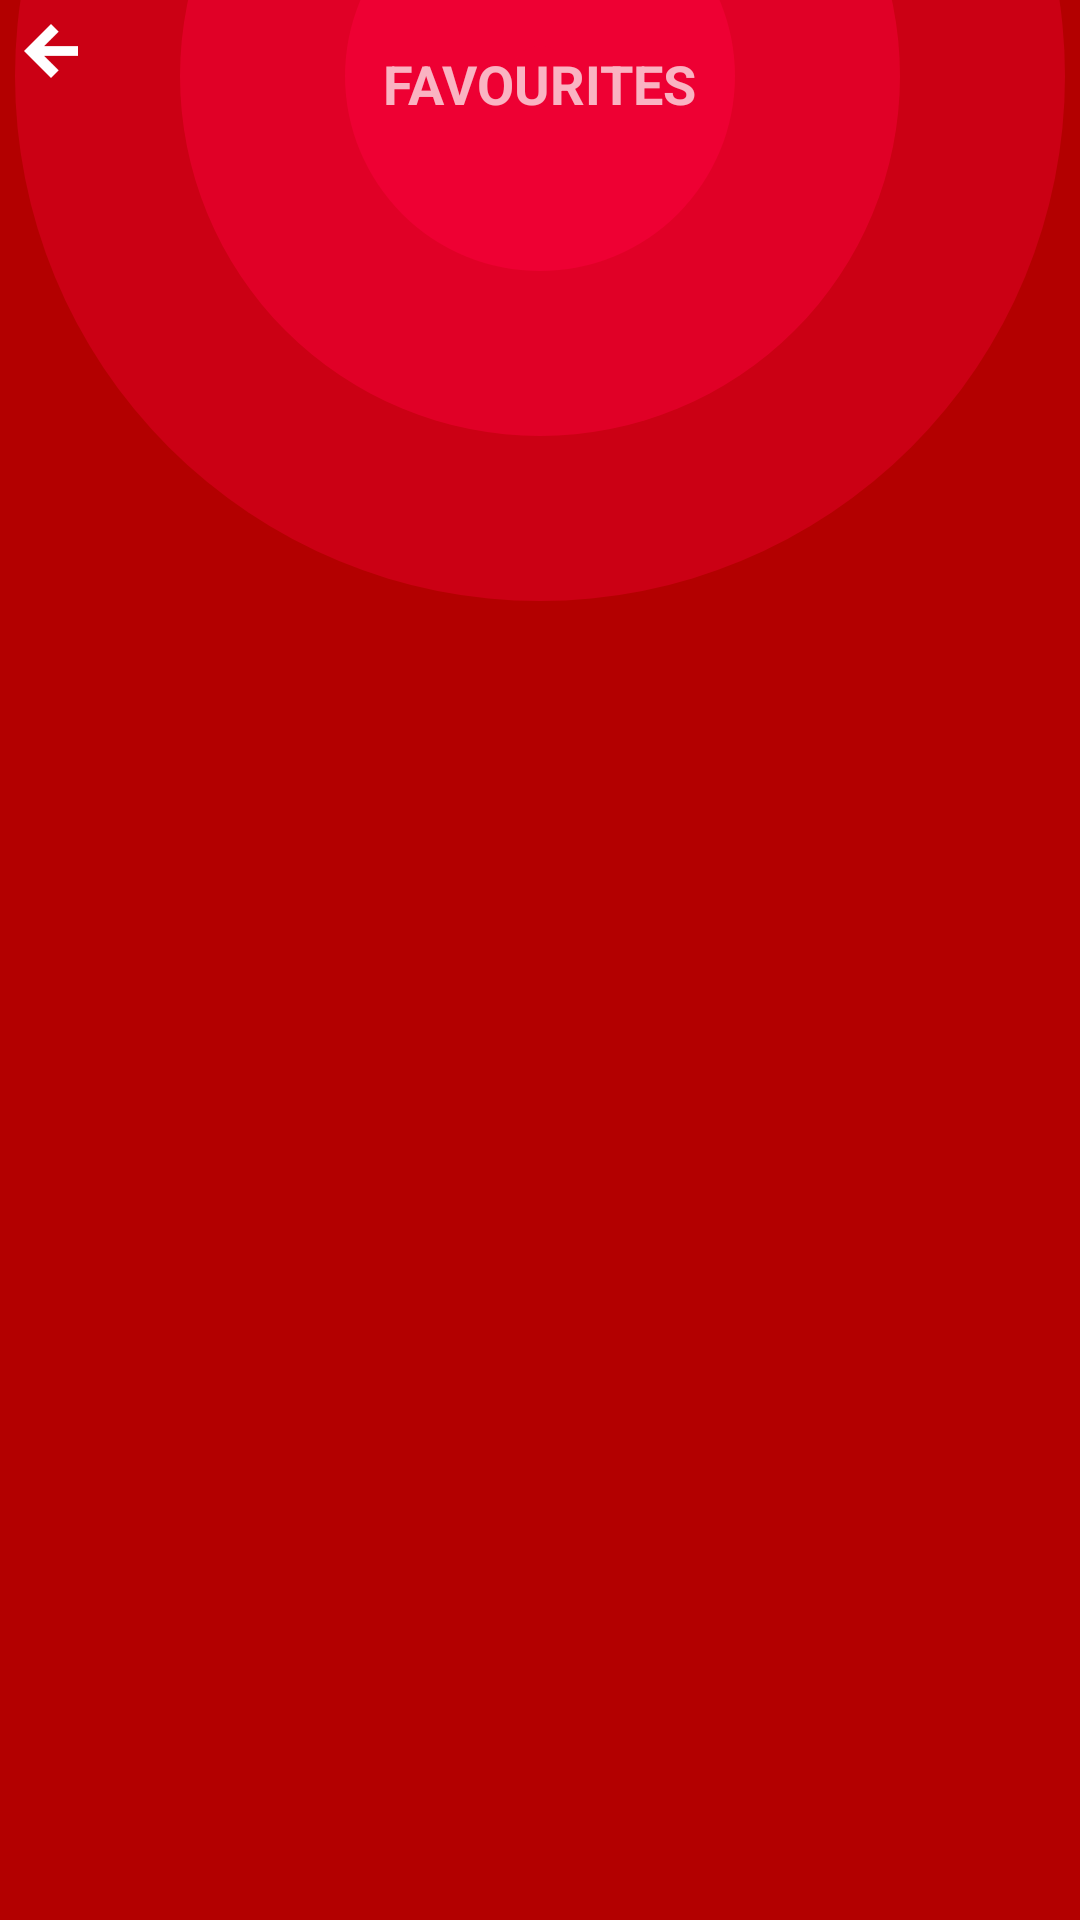

Named icons in this screenshot (1080x1920) and their centers, point (x, y):
arrow left: point (51, 51)
